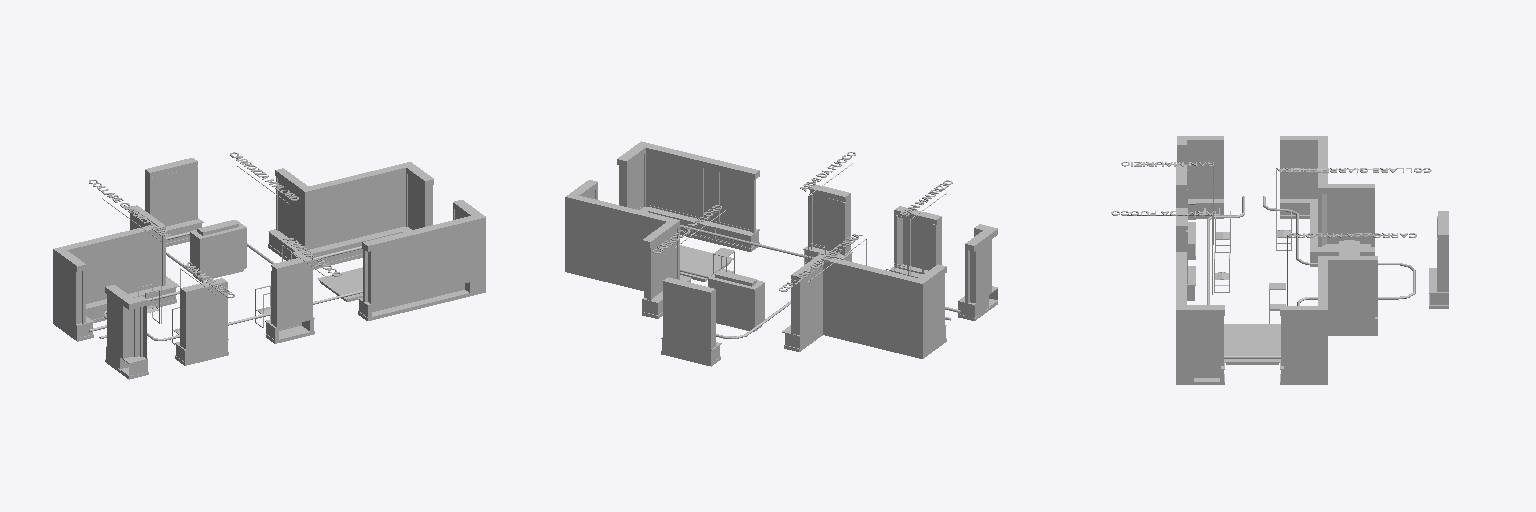
The model's file is rot.obj.
3 views of the same model, side by side, from view 1: azimuth 30°, elevation 25°; view 2: azimuth 150°, elevation 25°; view 3: azimuth 270°, elevation 25° (orthographic).
Parts seen in each view (by area): view 1: Mesh2_Model.001, Mesh1_Model.002, Mesh1_Model.001, Mesh13_Model.001, Mesh12_Group1_Model, Mesh13_Model.002, Mesh1_Group1_Model, Mesh1_Model, Mesh13_Model, Mesh.168_mesh-ad36de9c-5887-4ce1-bb3e-7ac5a[number redacted], Mesh1_Group1_Model.002, Mesh.125_mesh-a39ea739-f2a6-4fb2-8b71-5afa98010ce8 (+3 smaller); view 2: Mesh13_Model, Mesh1_Model.001, Mesh2_Model, Mesh2_Model.001, Mesh12_Group1_Model, Mesh1_Model, Mesh.073_mesh-a4dc922d-1922-489d-93c3-cfa73dd81271, Mesh13_Model.001, Mesh.170_mesh-a7ab9978-162f-43d9-b42f-0730d90e36f6, Mesh1_Group1_Model, Mesh1_Group1_Model.001, Mesh1_Model.002 (+3 smaller); view 3: Mesh1_Model.001, Mesh2_Model.001, Mesh13_Model.001, Mesh13_Model, Mesh.125_mesh-a39ea739-f2a6-4fb2-8b71-5afa98010ce8, Mesh13_Model.002, Mesh1_Model, Mesh1_Group1_Model.002, Mesh1_Group1_Model, Mesh12_Group1_Model, Mesh5_Model, Mesh6_Model (+1 smaller).
Boxes of the visible parts, <box> form: Mesh2_Model.001: <box>358,200,485,320</box>; Mesh1_Model.002: <box>271,175,422,264</box>; Mesh1_Model.001: <box>268,162,433,269</box>; Mesh13_Model.001: <box>53,210,179,341</box>; Mesh12_Group1_Model: <box>175,278,228,365</box>; Mesh13_Model.002: <box>74,234,164,318</box>; Mesh1_Group1_Model: <box>265,256,314,343</box>; Mesh1_Model: <box>105,285,148,379</box>; Mesh13_Model: <box>54,205,178,325</box>; Mesh.168_mesh-ad36de9c-5887-4ce1-bb3e-7ac5a[number redacted]: <box>201,229,245,277</box>; Mesh1_Group1_Model.002: <box>89,232,362,340</box>; Mesh.125_mesh-a39ea739-f2a6-4fb2-8b71-5afa98010ce8: <box>317,267,362,299</box>; Mesh13_Model: <box>782,254,946,358</box>; Mesh1_Model.001: <box>565,180,691,318</box>; Mesh2_Model: <box>628,155,749,245</box>; Mesh2_Model.001: <box>617,141,759,251</box>; Mesh12_Group1_Model: <box>890,206,941,277</box>; Mesh1_Model: <box>958,224,997,320</box>; Mesh.073_mesh-a4dc922d-1922-489d-93c3-cfa73dd81271: <box>666,287,706,348</box>; Mesh13_Model.001: <box>782,260,946,358</box>; Mesh.170_mesh-a7ab9978-162f-43d9-b42f-0730d90e36f6: <box>709,280,753,328</box>; Mesh1_Group1_Model: <box>803,185,852,263</box>; Mesh1_Group1_Model.001: <box>809,196,841,261</box>; Mesh1_Model.002: <box>586,191,676,311</box>; Mesh1_Model.001: <box>1280,256,1377,384</box>; Mesh2_Model.001: <box>1176,252,1224,384</box>; Mesh13_Model.001: <box>1280,140,1374,266</box>; Mesh13_Model: <box>1280,136,1374,255</box>; Mesh.125_mesh-a39ea739-f2a6-4fb2-8b71-5afa98010ce8: <box>1224,324,1280,361</box>; Mesh13_Model.002: <box>1286,147,1314,213</box>; Mesh1_Model: <box>1177,136,1223,219</box>; Mesh1_Group1_Model.002: <box>1207,196,1415,358</box>; Mesh1_Group1_Model: <box>1176,208,1195,300</box>; Mesh12_Group1_Model: <box>1176,165,1195,259</box>; Mesh5_Model: <box>1204,146,1219,197</box>; Mesh6_Model: <box>1189,146,1203,197</box>.
Size of the model in its own units: 22.04 by 5 by 18.02.